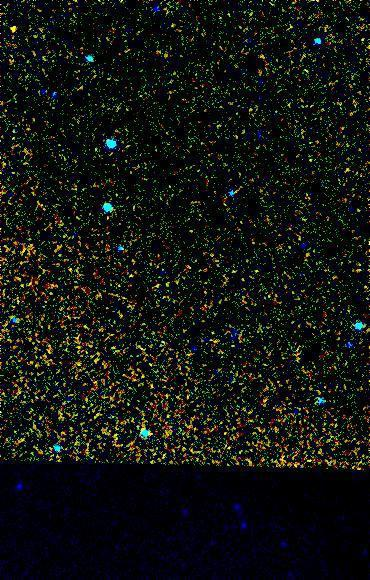star: (1, 16, 31, 46)
